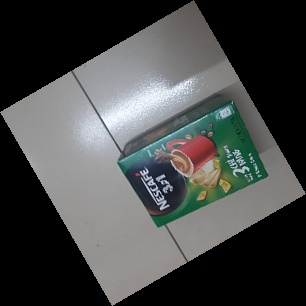Nes Rang: (116, 94, 269, 227)
